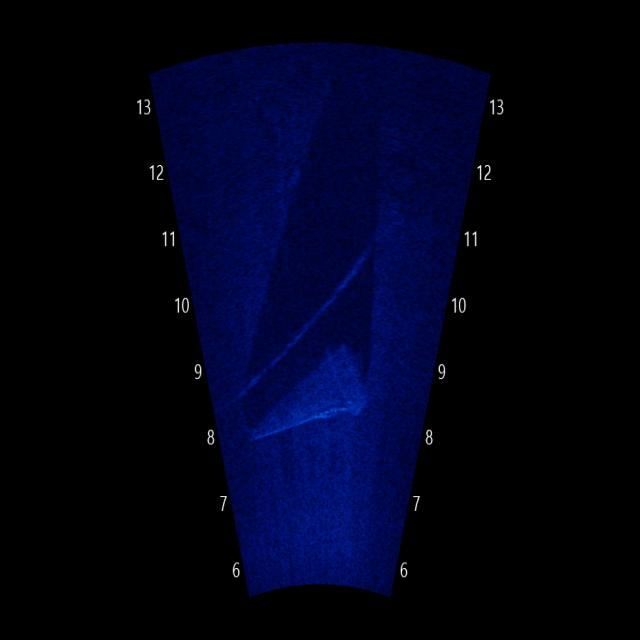circle: (376, 142, 430, 211), (250, 77, 296, 132)
triangle: (245, 330, 372, 465)
